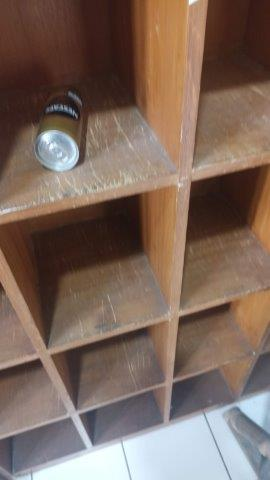kaleng: (34, 85, 85, 175)
